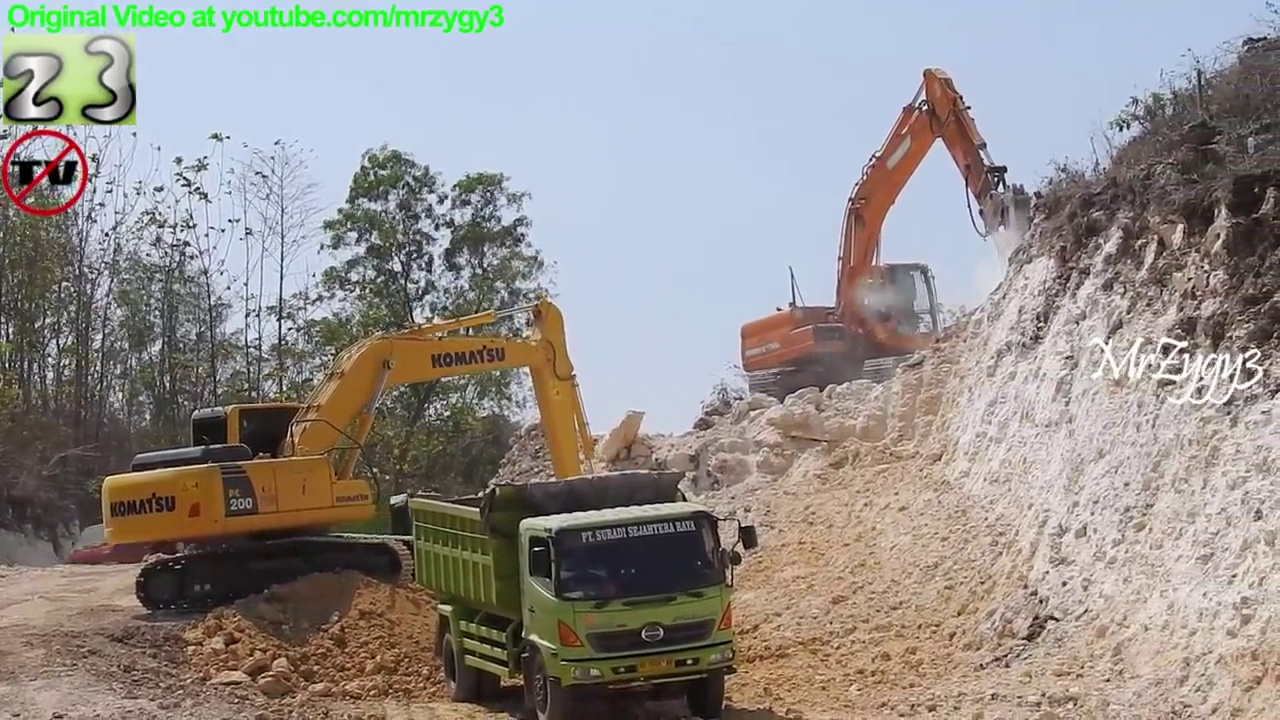excavator: (100, 298, 627, 623), (738, 64, 1038, 420)
truck: (406, 464, 762, 720)
